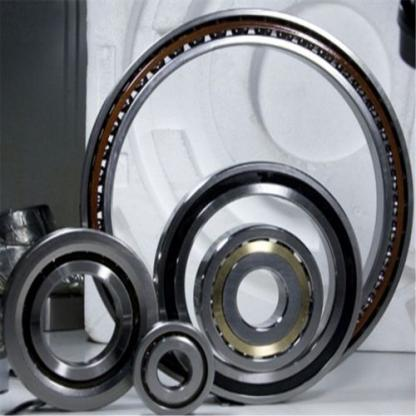FOD: (69, 4, 415, 411), (148, 159, 370, 410), (0, 226, 159, 415), (193, 219, 324, 375), (132, 319, 218, 415)
